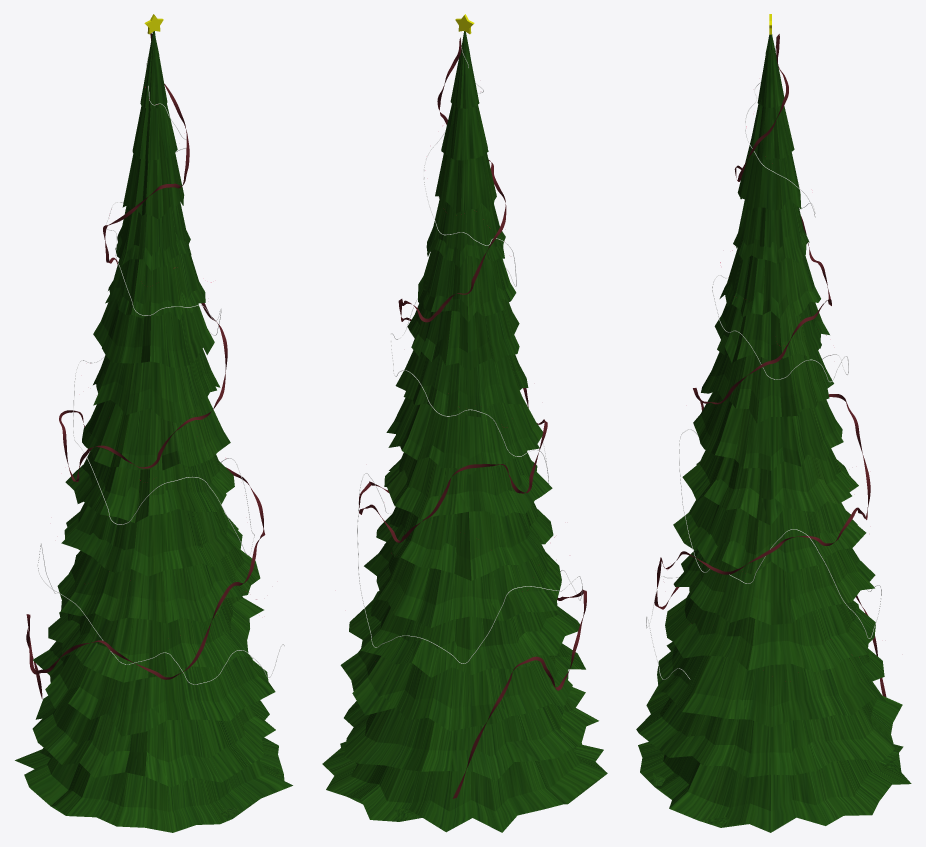
The model's file is XMas.Tree.glb.
The picture shows the model from 3 angles, left to right: view 1: azimuth 30°, elevation 25°; view 2: azimuth 150°, elevation 25°; view 3: azimuth 270°, elevation 25°; orthographic projection.
Parts seen in each view (by area): view 1: Tree, Ribbon; view 2: Tree, Ribbon; view 3: Tree, Ribbon.
Boxes of the visible parts, box(x1,y1,x2,y2) form: Tree: box(15, 31, 292, 832); Ribbon: box(26, 33, 284, 699); Tree: box(322, 31, 607, 832); Ribbon: box(357, 37, 586, 798); Tree: box(636, 34, 911, 832); Ribbon: box(646, 34, 886, 696).
Size of the model in its own units: 98.57 by 308 by 98.2.
6 materials, 1 textured.
